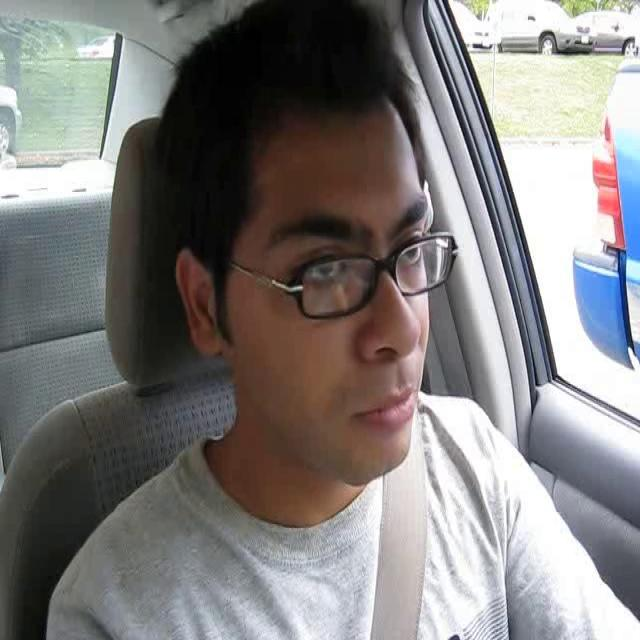close: (349, 379, 417, 432)
